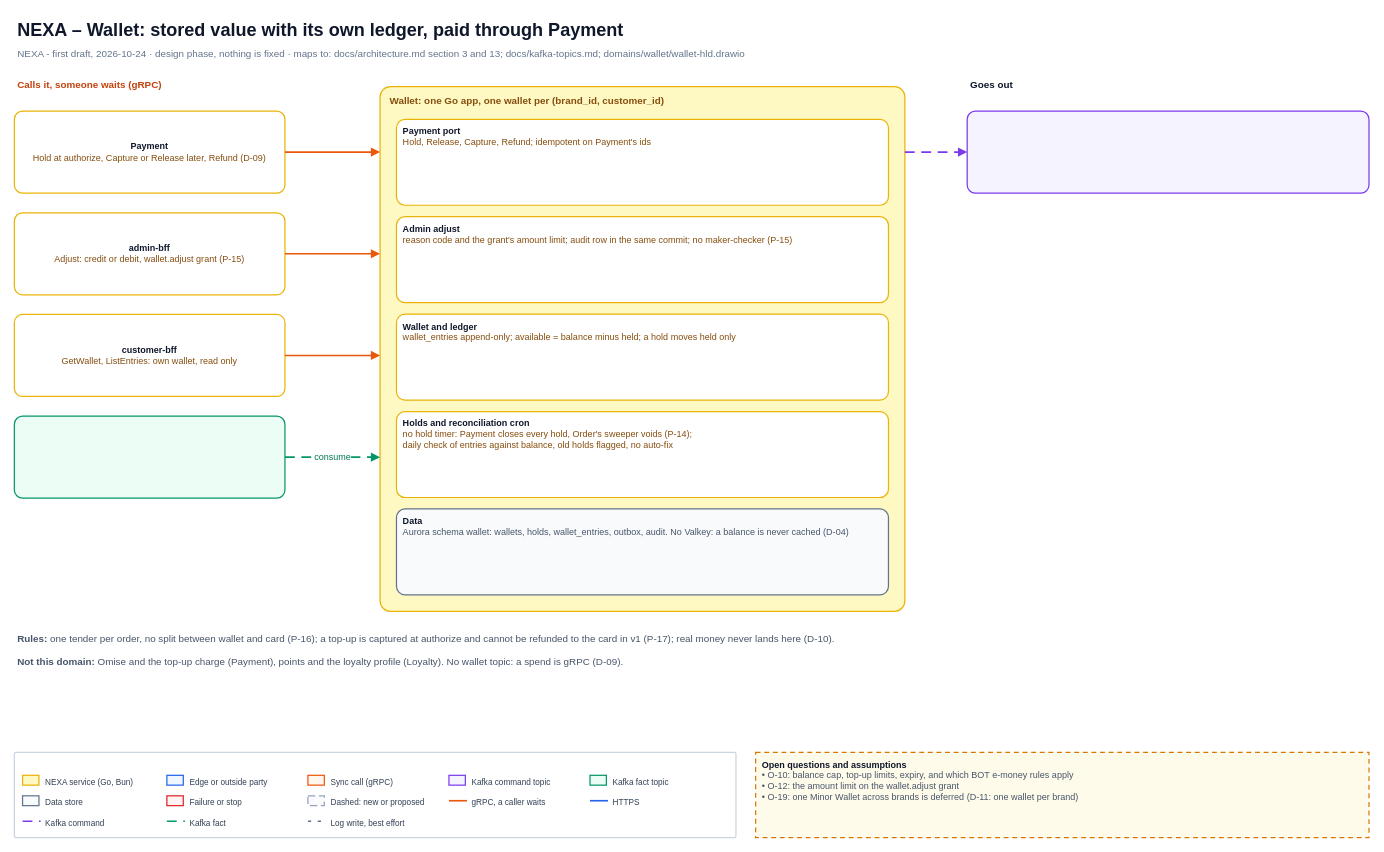
Some shapes in this 1384 by 852 pixel diagram are drawn without their labels. Each missing label, with the box of its shape:
Legend: (13, 751, 736, 838)
notification.requested {send} topped up, adjusted, refunded; customer_id only: (966, 110, 1369, 193)
payment.events captured with purpose = top_up only; other variants Ack: (13, 415, 285, 498)
